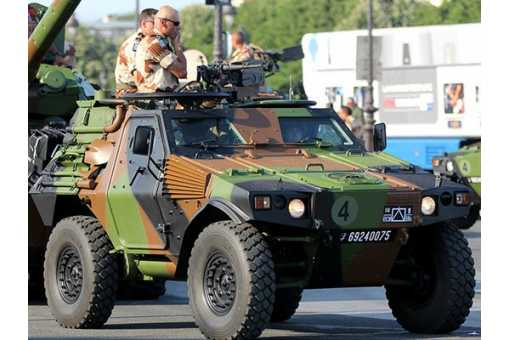license_plate: (347, 227, 392, 245)
